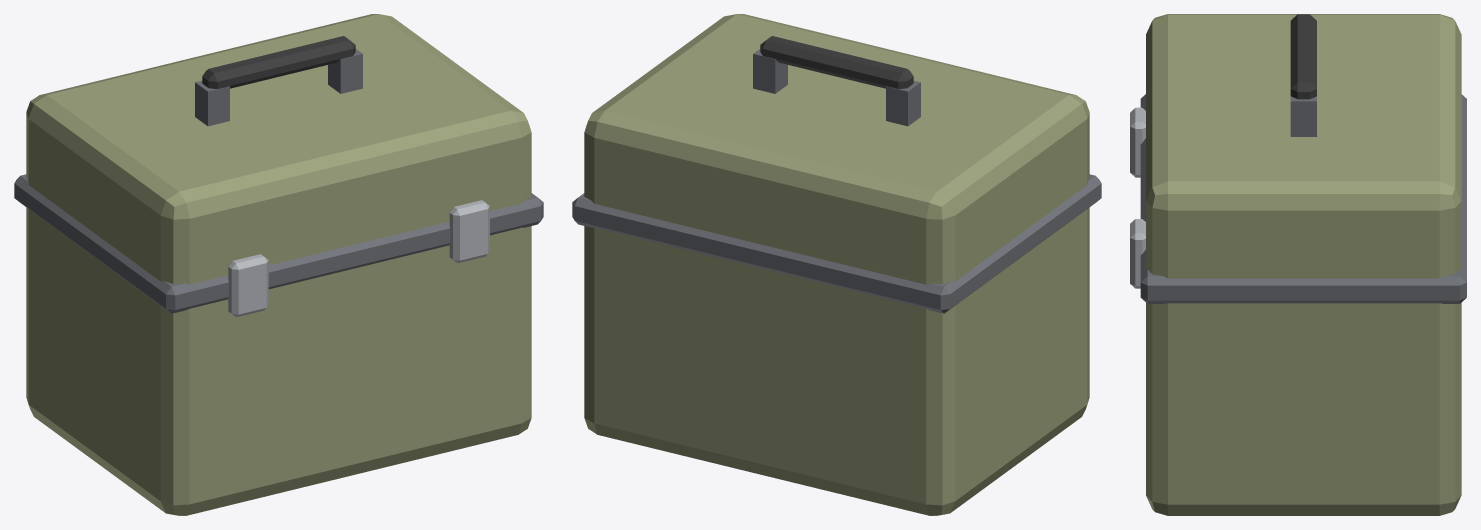
File: Garage_Case_Olive.glb
3 views of the same model, side by side, from view 1: azimuth 30°, elevation 25°; view 2: azimuth 150°, elevation 25°; view 3: azimuth 270°, elevation 25° (orthographic). The views are drawn at different scales.
Visible parts, largest first — view 1: Garage_Case_Olive; view 2: Garage_Case_Olive; view 3: Garage_Case_Olive.
Boxes of the visible parts, <box> form: Garage_Case_Olive: <box>14,14,543,515</box>; Garage_Case_Olive: <box>572,14,1101,515</box>; Garage_Case_Olive: <box>1130,14,1466,515</box>.
Size of the model in its own units: 0.512 by 0.4825 by 0.384.
